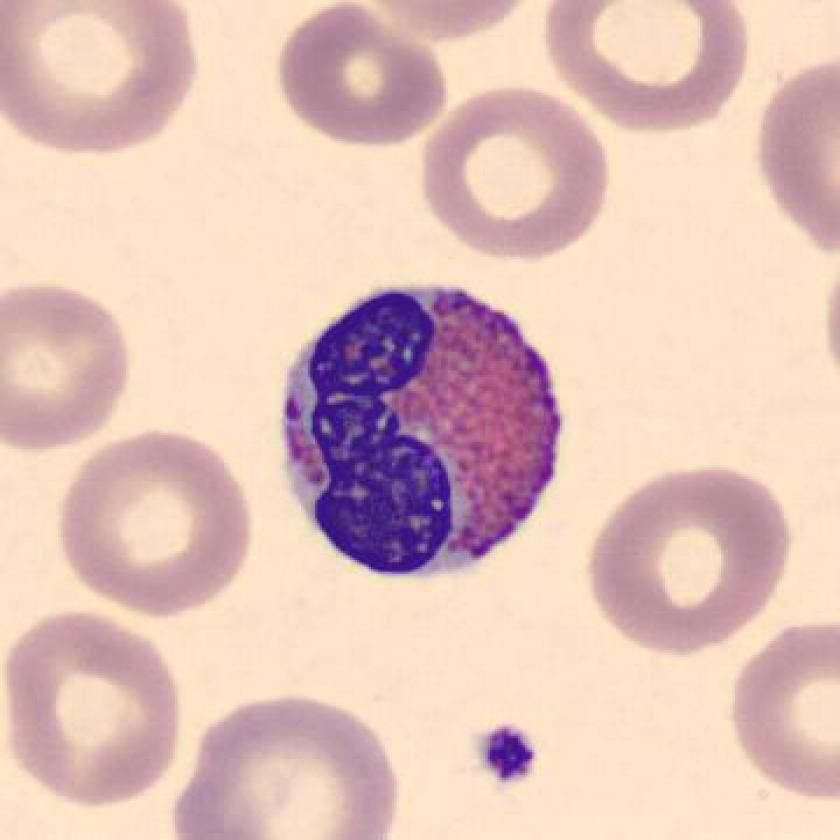eosinophil: (267, 276, 575, 596)
